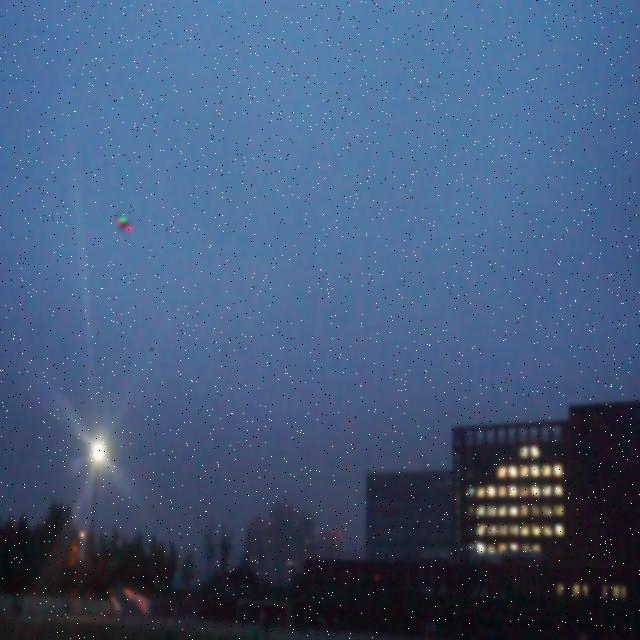UAV: (115, 215, 134, 231)
